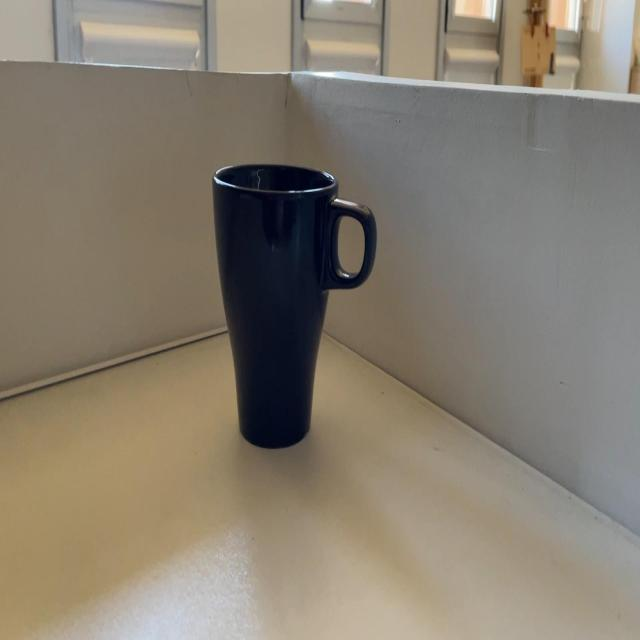cup: (210, 160, 376, 452)
